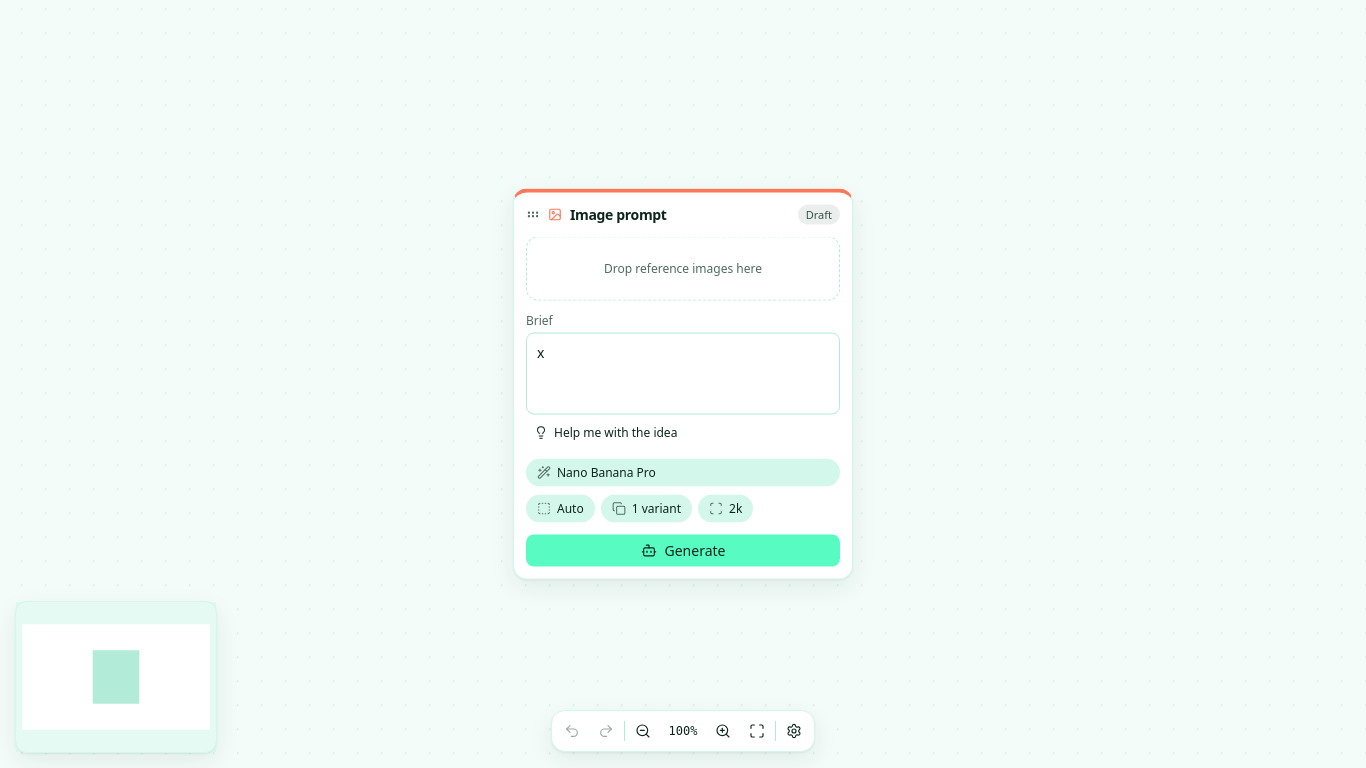
Test: Prompt cards › reports failed submissions without queuing
Step 1. Click the button with test id "prompt-generate" → (683, 550), box left=526, top=534, right=840, bottom=566
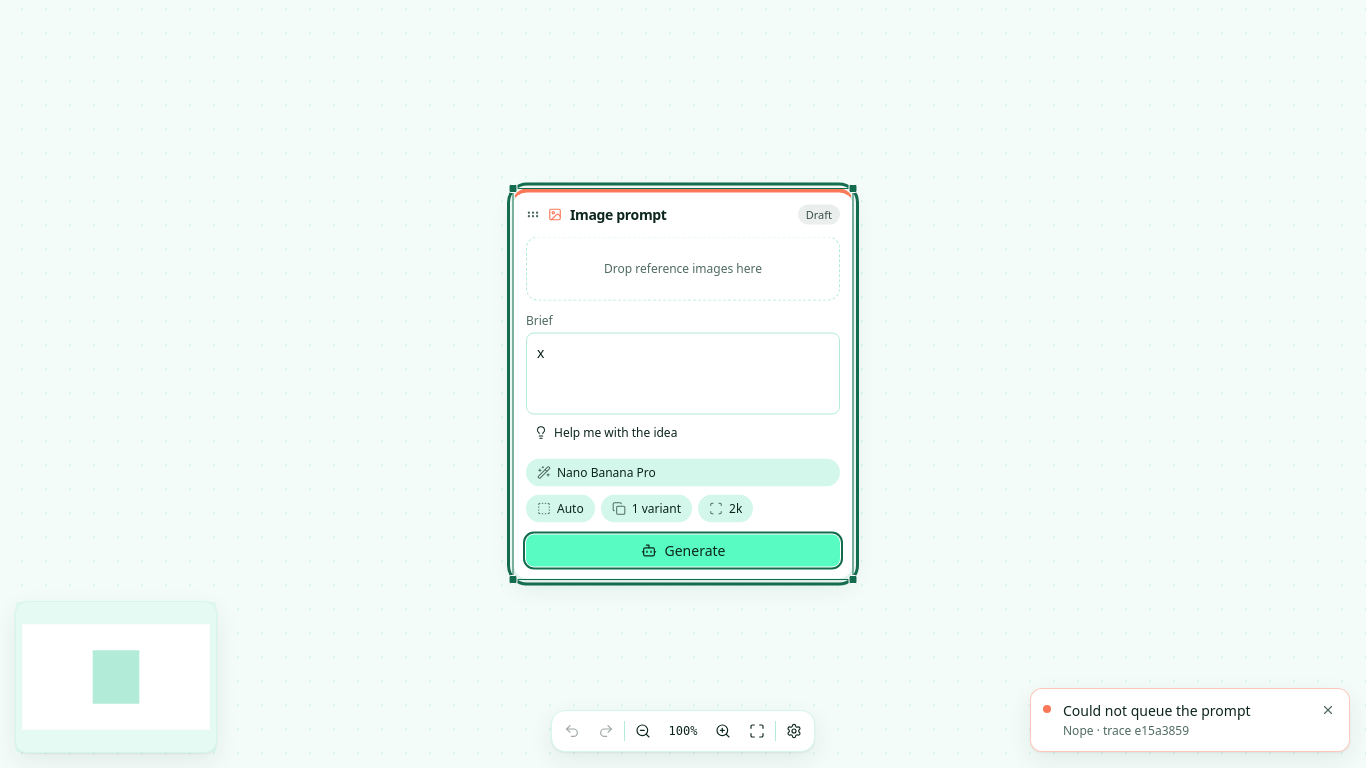
expect the heading "Could not queue the prompt" is shown: met, box left=1063, top=701, right=1251, bottom=720
